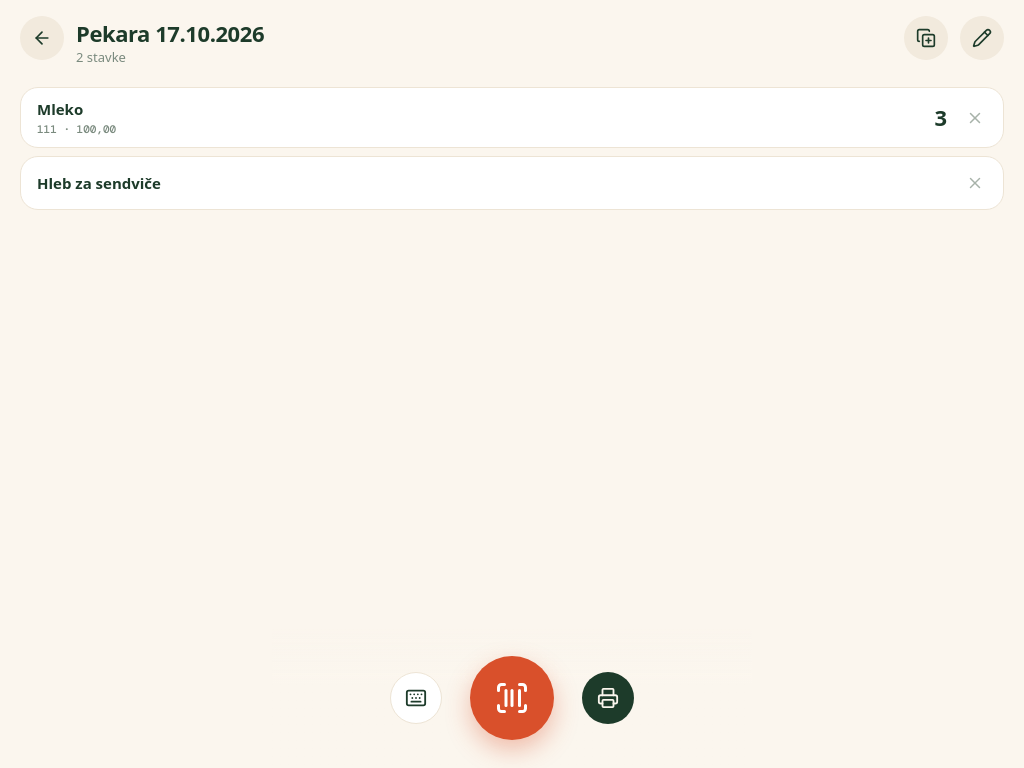
Prenesi stavke › picks items one by one and counts them on the button
Click the button named "Prenesi stavke" at [926, 38], box [904,16,948,60]
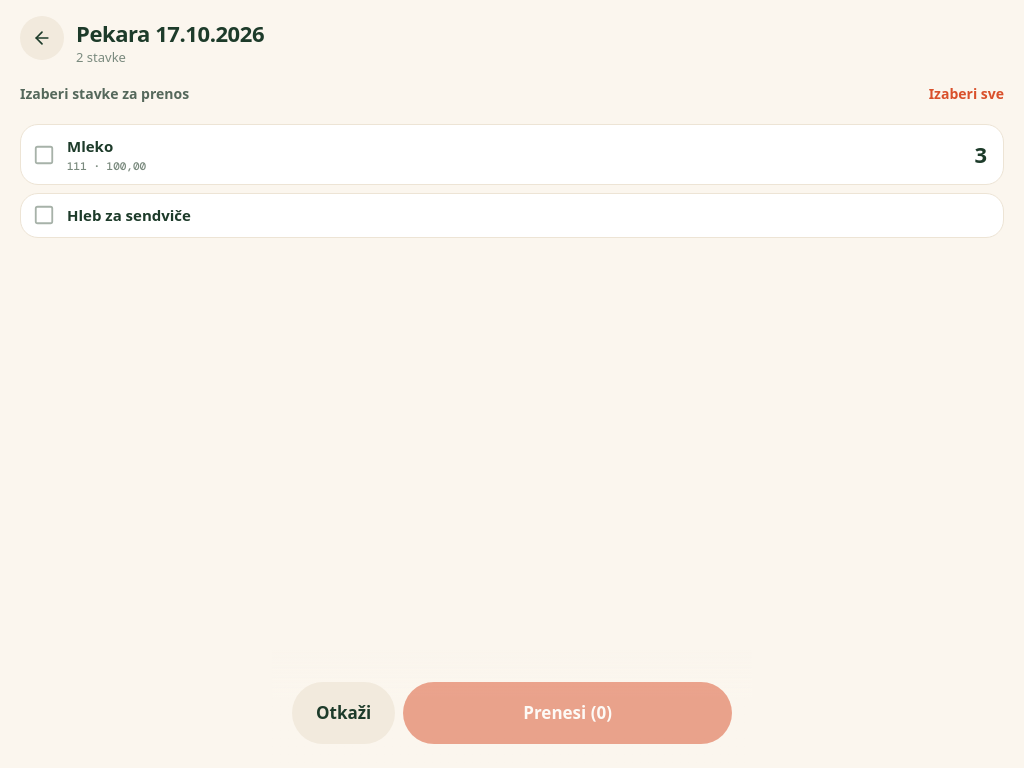
Click the checkbox labelled "Mleko" at [90, 146], box [20,124,1004,185]
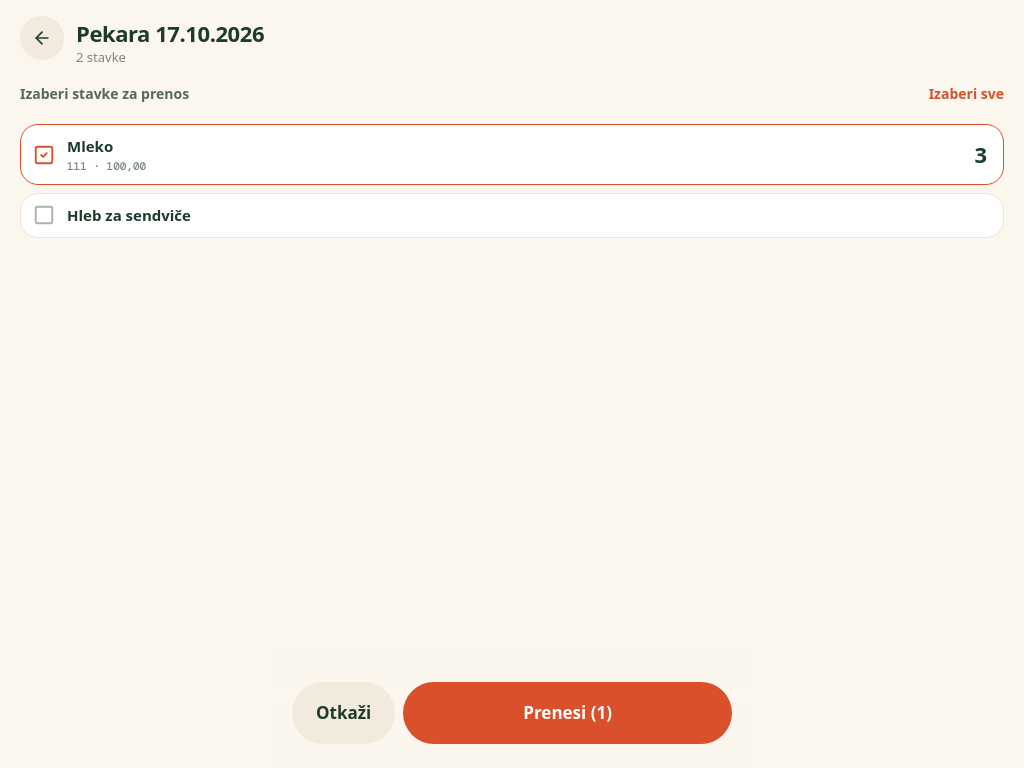
Check: the button "Prenesi (1)" is shown, box [403,682,732,744]
